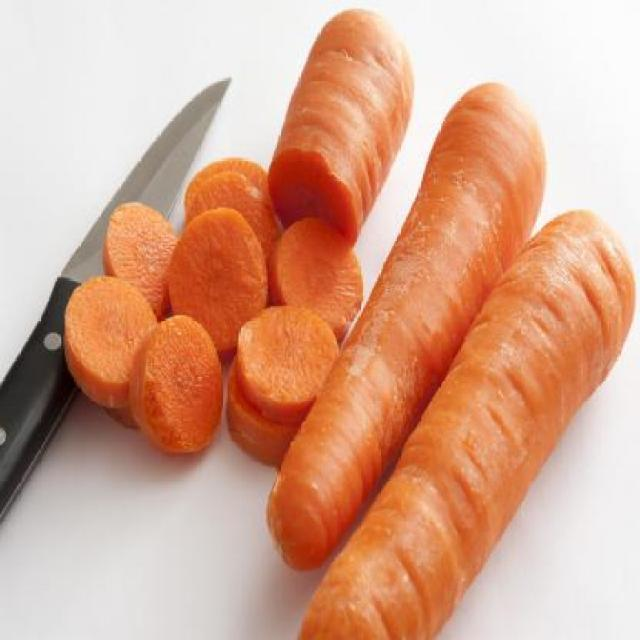carrot: (286, 206, 640, 639), (266, 72, 552, 570), (268, 7, 416, 240)
